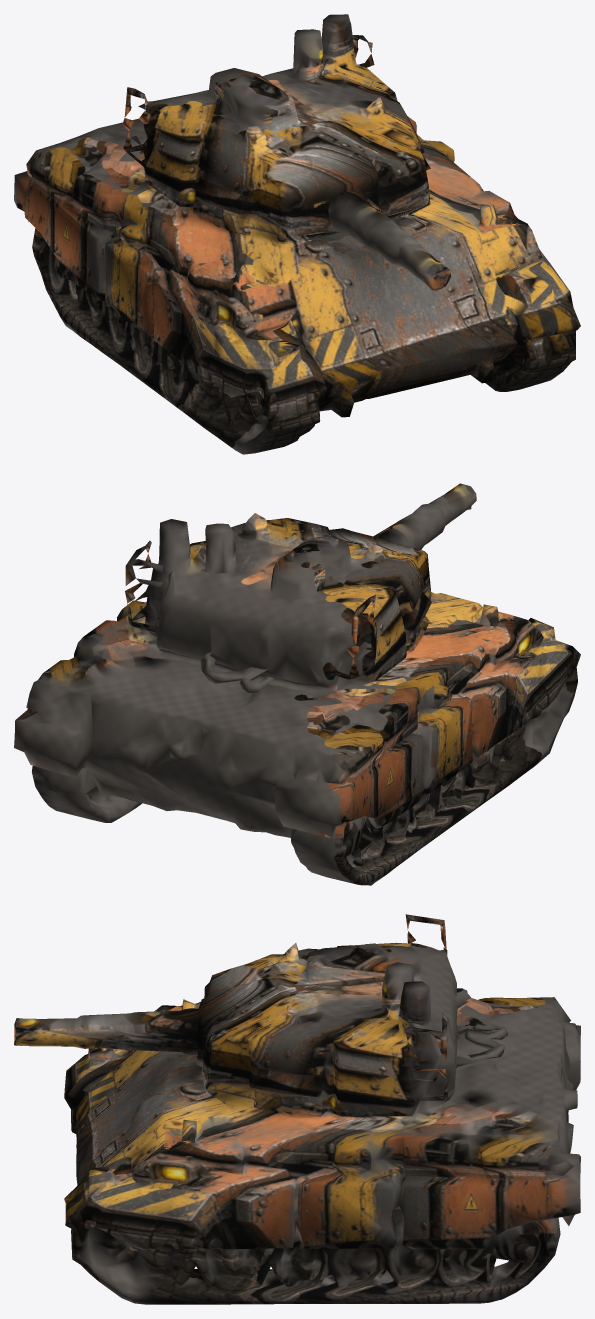
File: ironclad_lod1.glb
3 views of the same model, one above another, from view 1: azimuth 30°, elevation 25°; view 2: azimuth 150°, elevation 25°; view 3: azimuth 270°, elevation 25° (orthographic).
Parts seen in each view (by area): view 1: geometry_0; view 2: geometry_0; view 3: geometry_0.
Boxes of the visible parts, left/top/right/bottom form: geometry_0: left=14, top=14, right=580, bottom=454; geometry_0: left=14, top=483, right=580, bottom=885; geometry_0: left=14, top=914, right=580, bottom=1304.
Bounding box in the file's own units: 1.36 × 1.11 × 1.99.
1 material, 1 textured.
